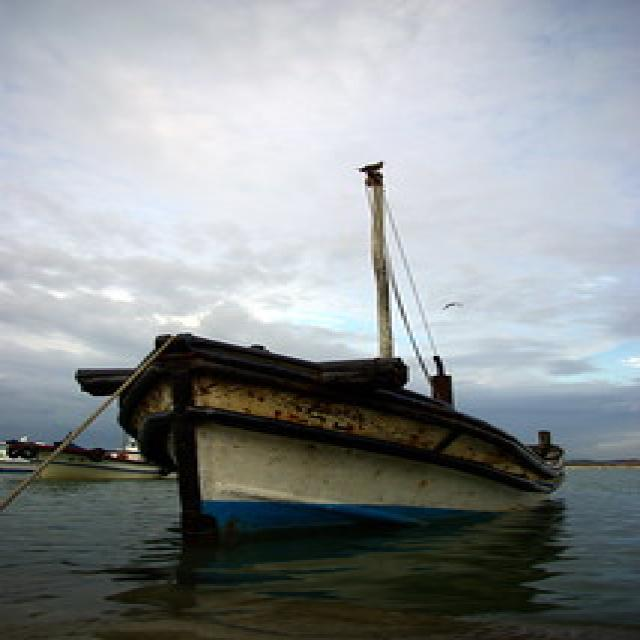Fishing Boat: (0, 154, 568, 545)
